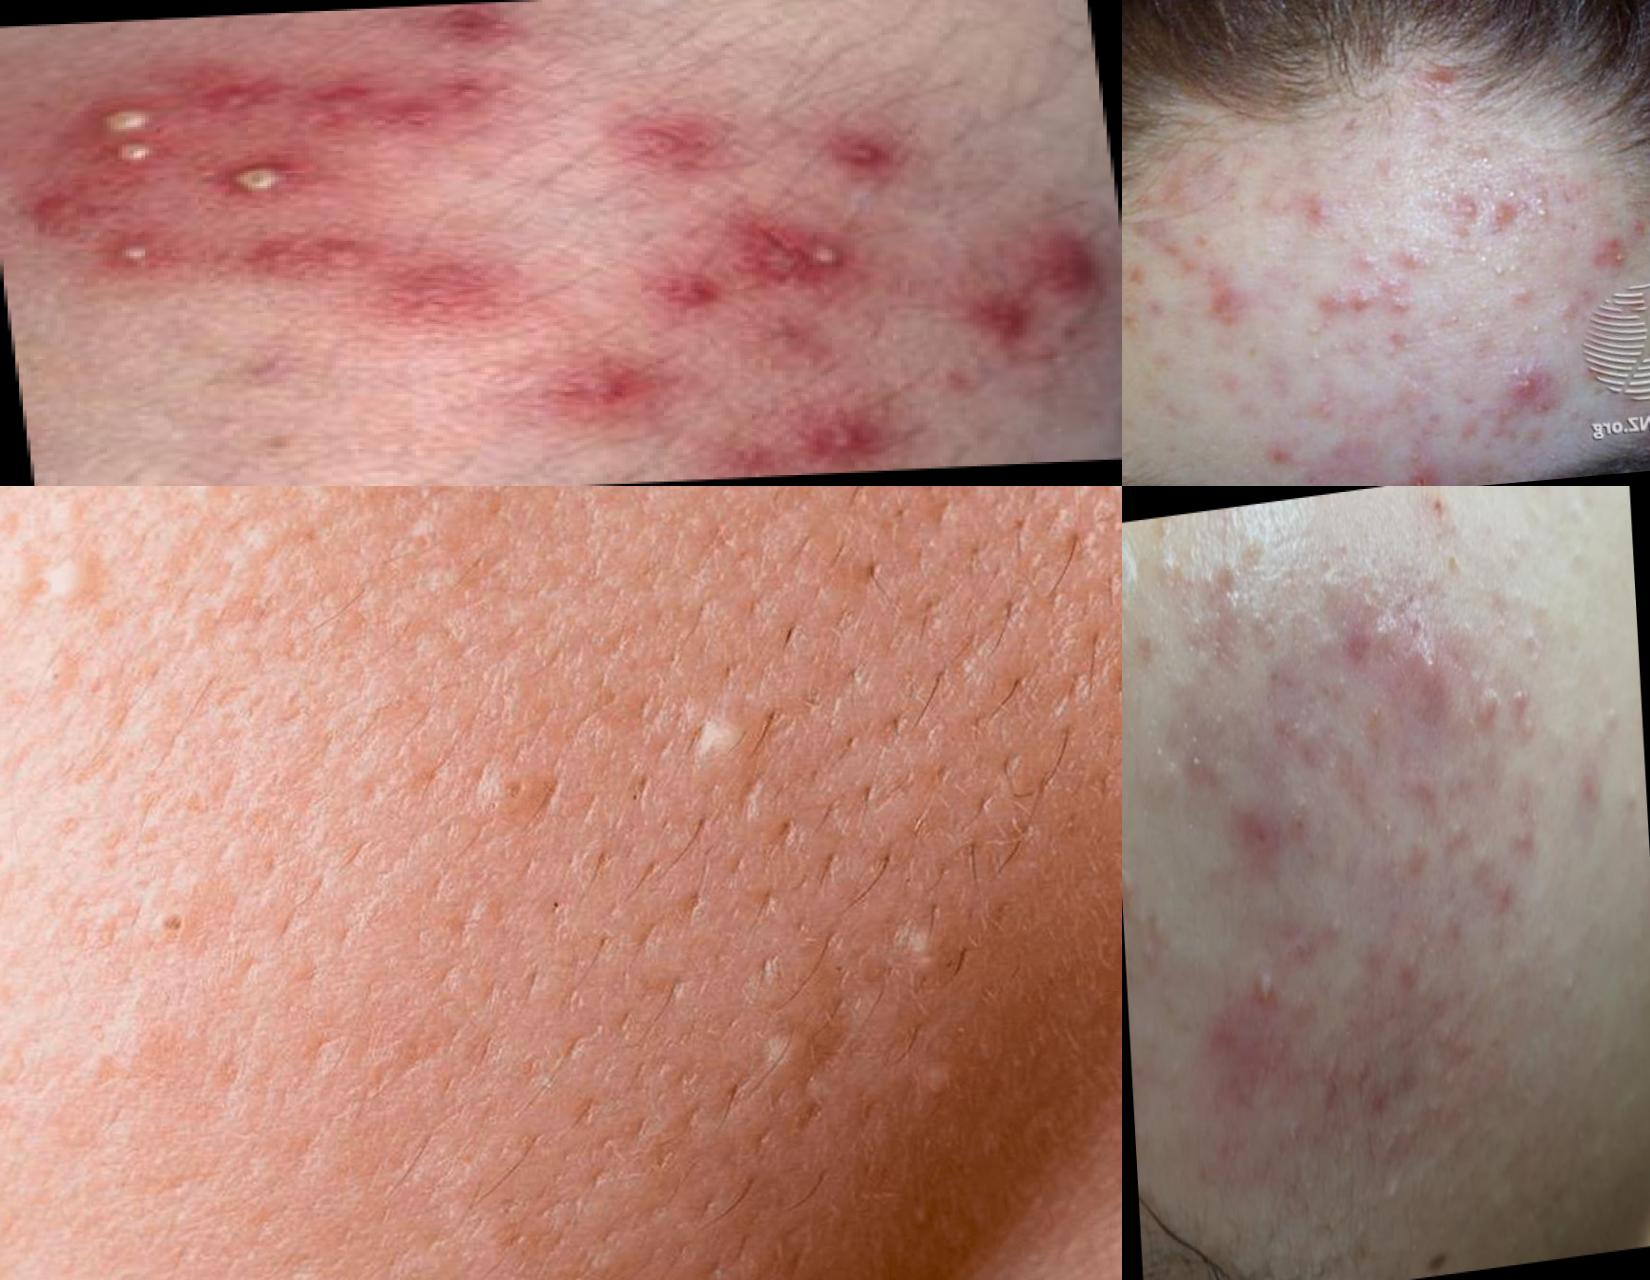blackhead: (70, 868, 254, 1010), (1283, 923, 1315, 983)
folliculitis: (763, 216, 879, 297), (78, 100, 177, 175), (208, 153, 309, 209), (106, 236, 167, 273)
papular: (943, 220, 1124, 357), (608, 107, 745, 177), (1400, 620, 1457, 748), (537, 355, 656, 412), (804, 126, 919, 179), (787, 404, 895, 461), (1503, 765, 1552, 853), (1193, 274, 1254, 337), (1235, 797, 1280, 876), (1503, 371, 1560, 424), (1583, 228, 1642, 278), (1375, 262, 1418, 321), (1392, 236, 1445, 283), (1444, 185, 1495, 232), (1434, 810, 1477, 864), (1570, 758, 1608, 814), (1485, 862, 1525, 914), (1383, 457, 1446, 487), (1343, 283, 1379, 321), (1260, 435, 1298, 471), (1315, 284, 1349, 319), (1491, 199, 1515, 242)
purulent: (1236, 947, 1276, 1018)
sebo-crystan-conglo: (1469, 665, 1499, 732)
whitehead: (635, 653, 763, 811), (727, 1014, 826, 1137), (883, 886, 972, 1019), (1416, 521, 1479, 600), (1280, 183, 1341, 240), (1136, 909, 1181, 981), (1562, 511, 1596, 603), (1505, 669, 1540, 752), (1246, 597, 1284, 661), (1326, 1109, 1359, 1181), (1477, 245, 1525, 293), (1520, 612, 1554, 679), (1594, 692, 1629, 756), (1371, 803, 1410, 857), (1375, 1164, 1410, 1218), (1315, 617, 1346, 675), (1512, 308, 1550, 348), (1523, 181, 1554, 228), (1296, 348, 1335, 380), (1162, 556, 1187, 593)
